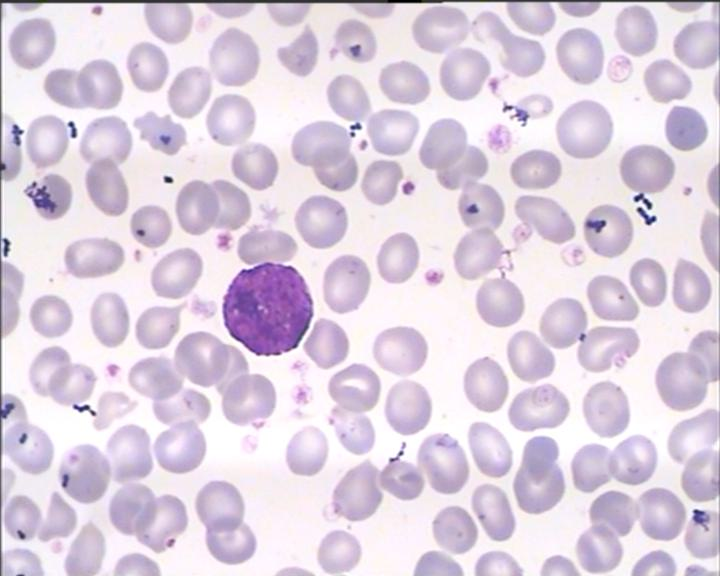baso: (214, 260, 321, 360)
